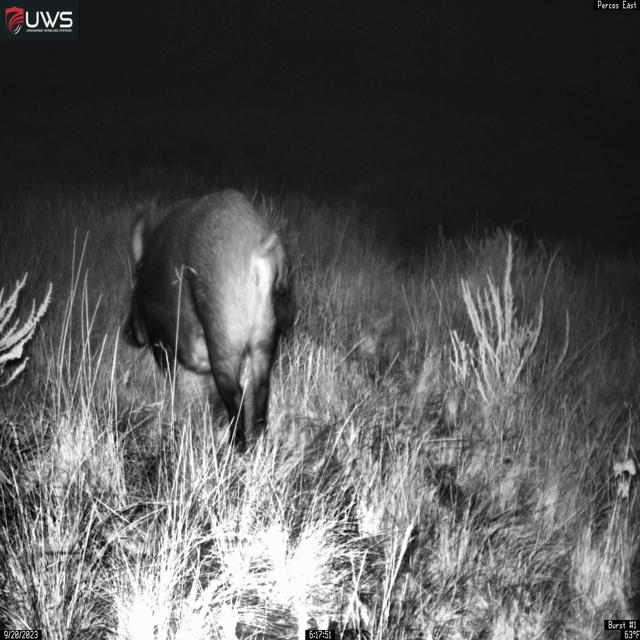pig: (121, 187, 296, 456)
